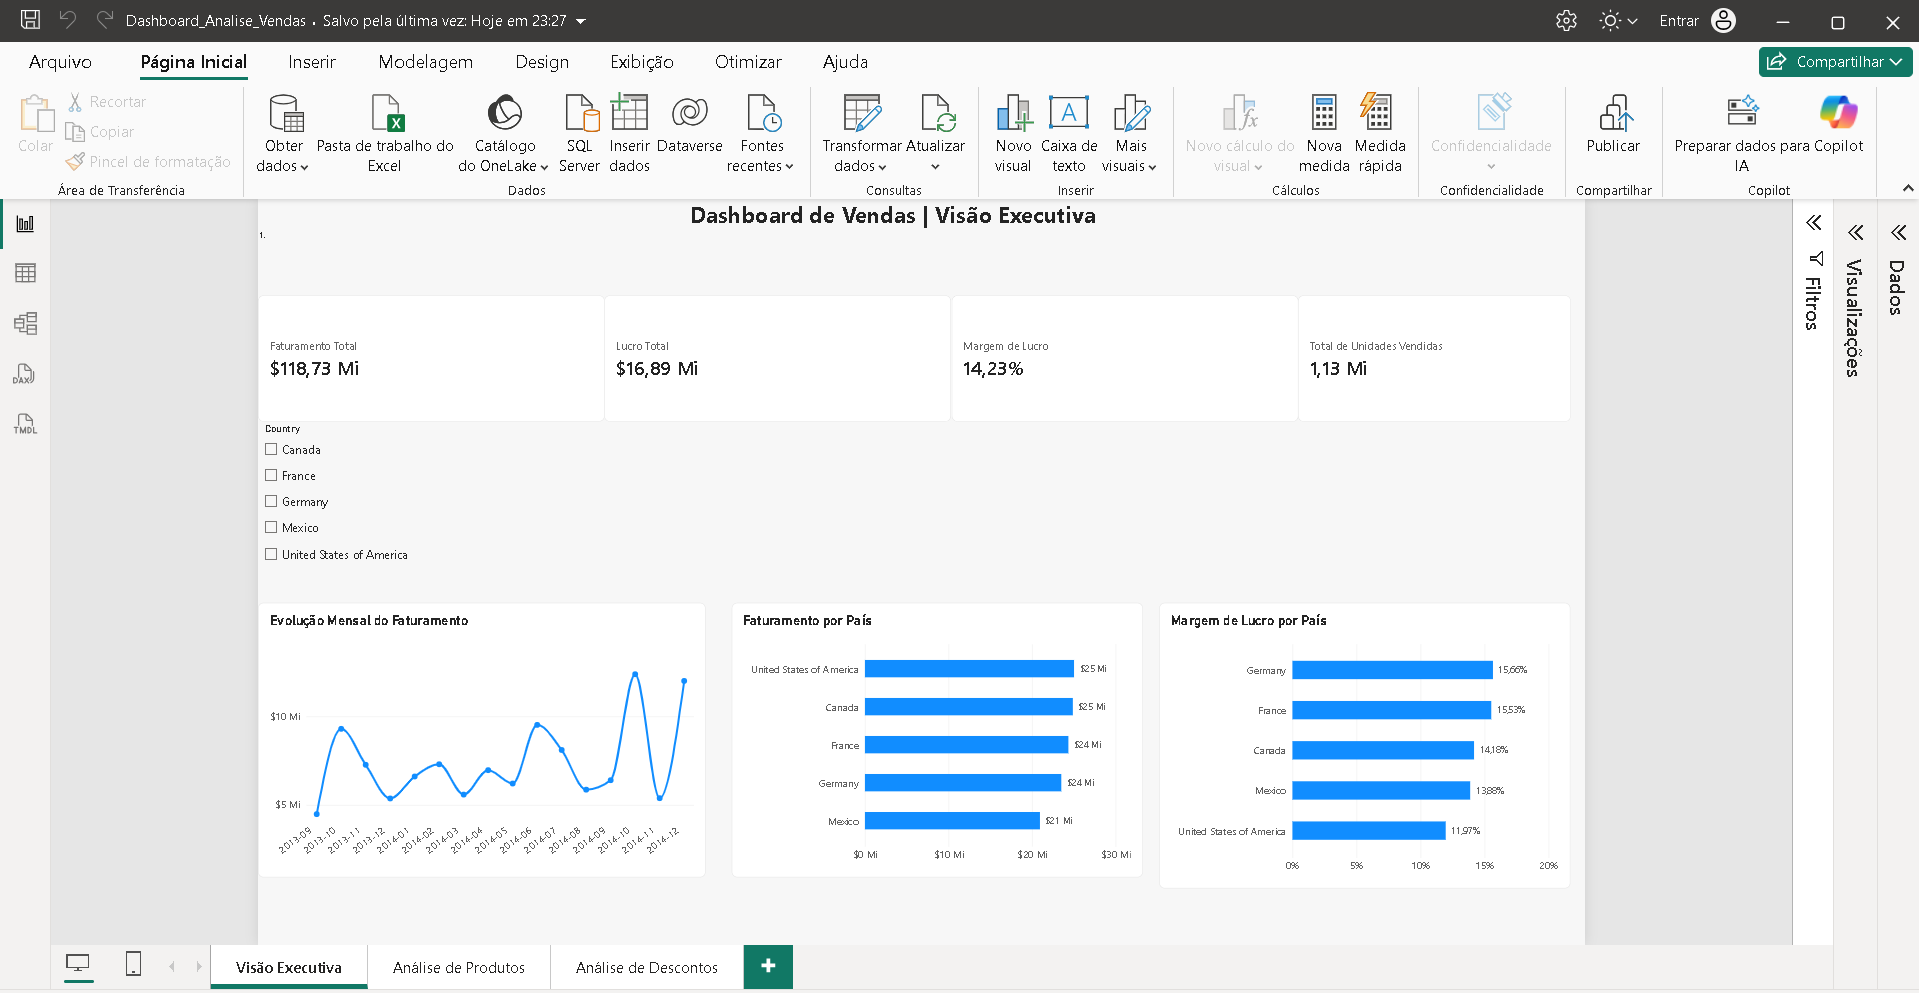

The page's visual inventory and layout, read from the dashboard file:
{"tool":"powerbi","page":{"name":"Visão Executiva","canvas":[1920,1080],"ordinal":0},"visuals":[{"type":"cardVisual","fields":{"Data":["F_Vendas.Faturamento Total"]},"box":[0,140,502.2,183.2],"z":0},{"type":"cardVisual","fields":{"Data":["F_Vendas.Lucro Total"]},"box":[502,140,502.2,183.2],"z":1000},{"type":"cardVisual","fields":{"Data":["F_Vendas.Margem de Lucro"]},"box":[1004,140,502.2,183.2],"z":2000},{"type":"lineChart","title":"Evolução Mensal do Faturamento","fields":{"Category":["F_Vendas.AnoMes"],"Y":["F_Vendas.Faturamento Total"]},"box":[0,584,648.4,397.3],"z":3000},{"type":"slicer","fields":{"Values":["F_Vendas.Country"]},"box":[2,324,518.7,259.3],"z":4000},{"type":"clusteredBarChart","title":"Faturamento por País","fields":{"Category":["F_Vendas.Country"],"Y":["F_Vendas.Faturamento Total"]},"box":[685,585,594.9,397.3],"z":5000},{"type":"clusteredBarChart","title":"Margem de Lucro por País","fields":{"Category":["F_Vendas.Country"],"Y":["F_Vendas.Margem de Lucro"]},"box":[1305,585,594.9,413.7],"z":6000},{"type":"cardVisual","fields":{"Data":["F_Vendas.Total de Unidades Vendidas"]},"box":[1506,140,395.2,183.2],"z":7000},{"type":"textbox","box":[2,0,1834,140],"z":7001}]}

Visuals, with their boxes on the page's 1920x1080 design canvas (x1, y1, x2, y2). These are canvas units, not pixel positions in the 1919x993 screenshot, which may show the page scaled, cropped or inside an application window:
cardVisual - F_Vendas.Faturamento Total: <bbox>0, 140, 502, 323</bbox>
cardVisual - F_Vendas.Lucro Total: <bbox>502, 140, 1004, 323</bbox>
cardVisual - F_Vendas.Margem de Lucro: <bbox>1004, 140, 1506, 323</bbox>
"Evolução Mensal do Faturamento" lineChart: <bbox>0, 584, 648, 981</bbox>
slicer - F_Vendas.Country: <bbox>2, 324, 521, 583</bbox>
"Faturamento por País" clusteredBarChart: <bbox>685, 585, 1280, 982</bbox>
"Margem de Lucro por País" clusteredBarChart: <bbox>1305, 585, 1900, 999</bbox>
cardVisual - F_Vendas.Total de Unidades Vendidas: <bbox>1506, 140, 1901, 323</bbox>
textbox: <bbox>2, 0, 1836, 140</bbox>
